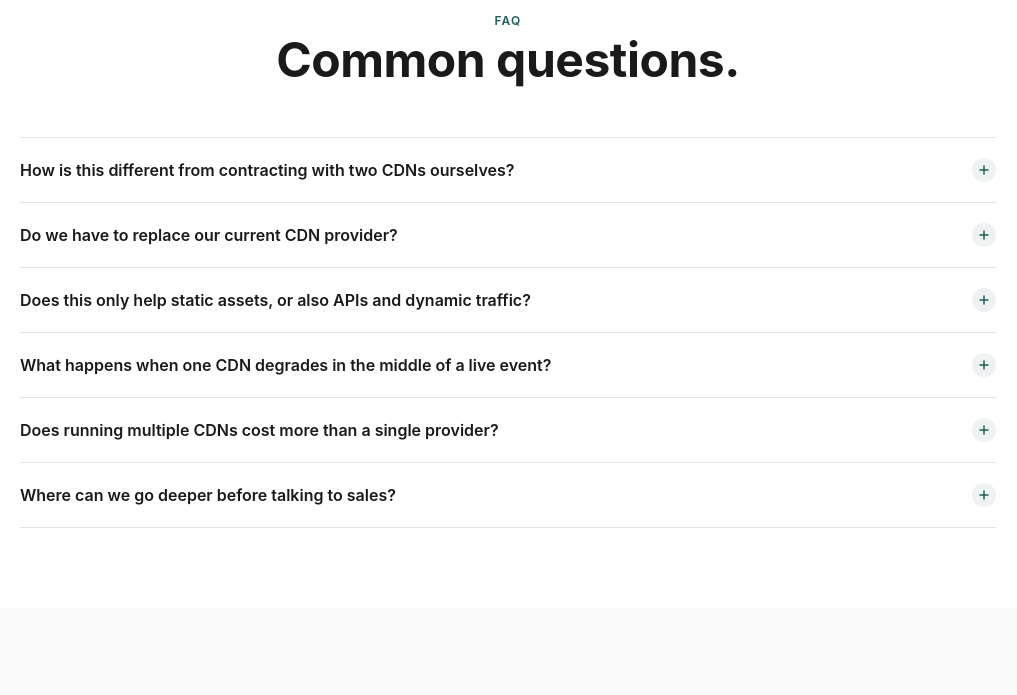
Test: EngineFAQ › renders the fifth question verbatim with its answer reachable via the accordion
The width and height of the screenshot is (1017, 695).
Expected: the text "Cost conditions are one of the inputs" is not shown
Step 1. Click the button "Does running multiple CDNs cost more than a single provider?" → (259, 430), box [20, 398, 996, 462]
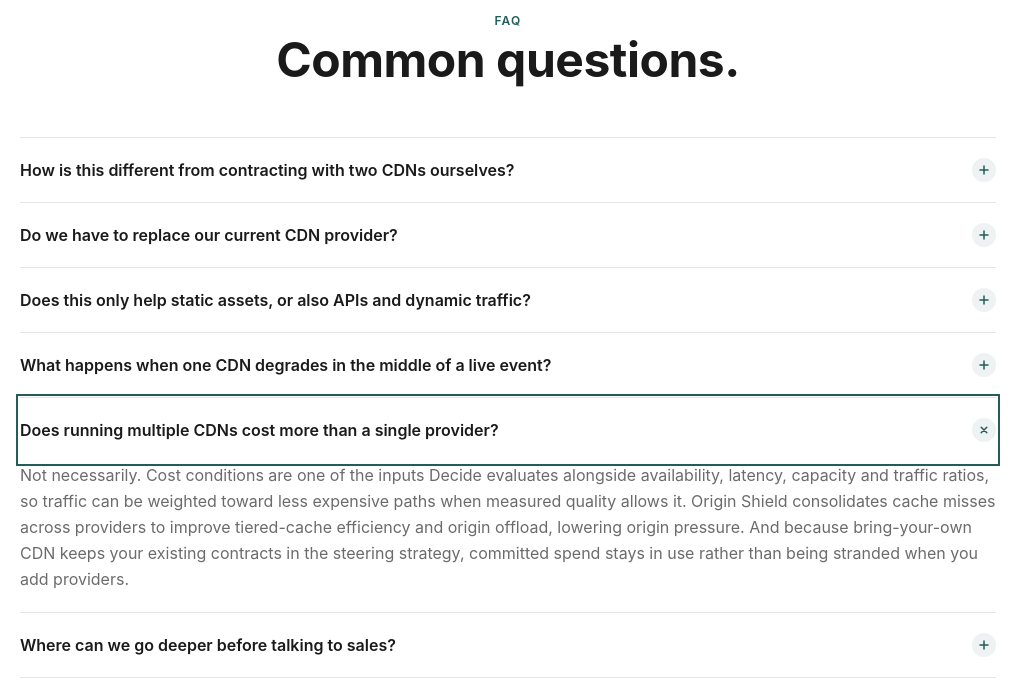
Result: the text "Cost conditions are one of the inputs" is shown at [20, 465, 996, 589]
